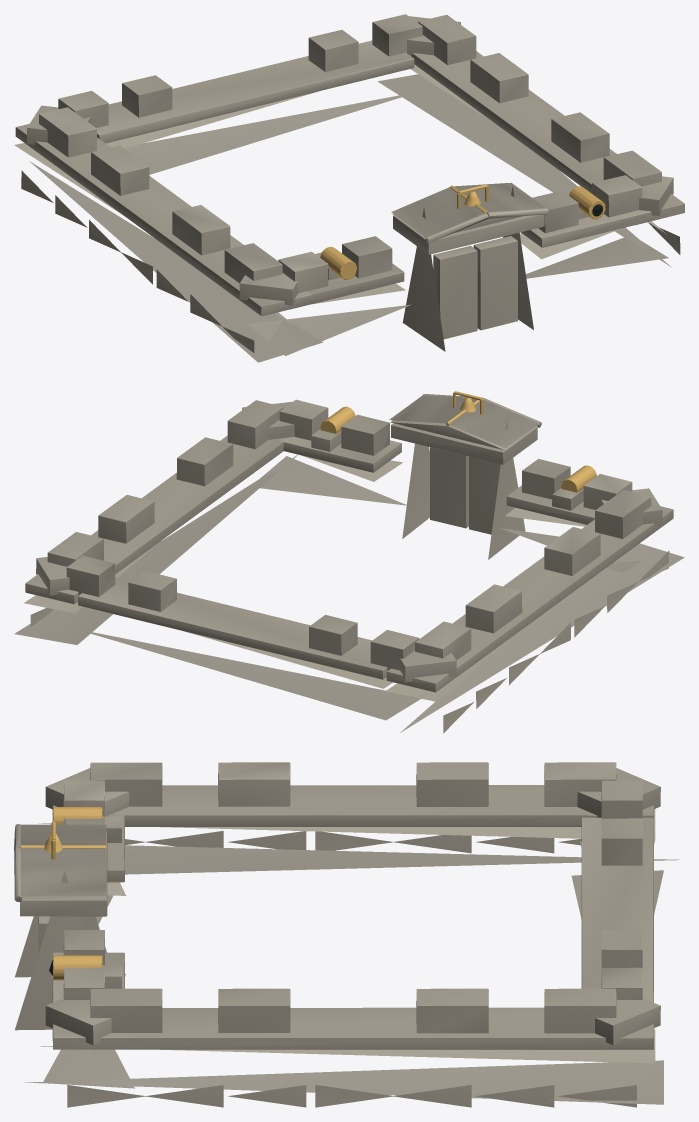
The model's file is pirate_ramparts.glb.
3 renders of one model, top to bottom at view 1: azimuth 30°, elevation 25°; view 2: azimuth 150°, elevation 25°; view 3: azimuth 270°, elevation 25°, orthographic. The views are drawn at different scales.
Visible parts, largest first — view 1: WoodBody, FixedDetails, BrassTrim; view 2: WoodBody, FixedDetails, BrassTrim; view 3: WoodBody, FixedDetails, BrassTrim.
Part boxes in pixels (x1=…): WoodBody: x1=15, y1=14, x2=684, y2=339; FixedDetails: x1=14, y1=64, x2=680, y2=362; BrassTrim: x1=320, y1=184, x2=605, y2=279; WoodBody: x1=25, y1=394, x2=673, y2=692; FixedDetails: x1=14, y1=399, x2=684, y2=733; BrassTrim: x1=320, y1=391, x2=596, y2=492; WoodBody: x1=14, y1=762, x2=660, y2=1049; FixedDetails: x1=15, y1=809, x2=679, y2=1107; BrassTrim: x1=20, y1=807, x2=106, y2=980.
Size of the model in its own units: 0.5551 by 0.172 by 0.6017.
